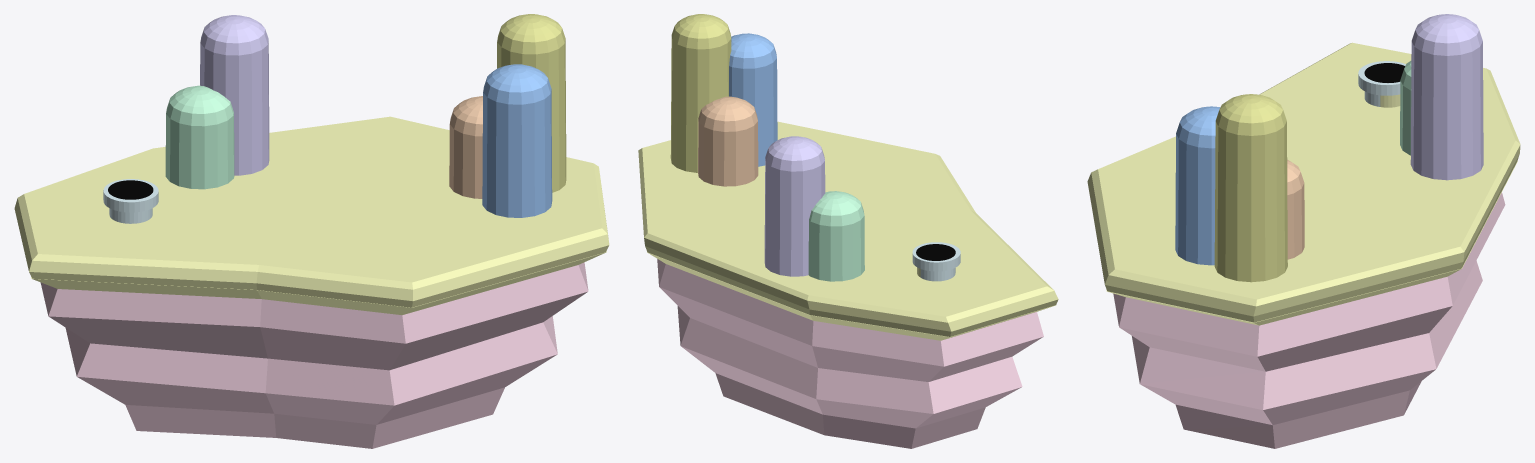
File: world3.gltf
3 views of the same model, side by side, from view 1: azimuth 30°, elevation 25°; view 2: azimuth 150°, elevation 25°; view 3: azimuth 270°, elevation 25° (orthographic). The views are drawn at different scales.
Visible parts, largest first — view 1: Cube.002, Sphere 4.001, Sphere.002, Sphere.001, Sphere 5.001, Sphere 2.002, Cylinder, Cylinder.001; view 2: Cube.002, Sphere.002, Sphere 5.001, Sphere 2.002, Sphere.001, Sphere 4.001, Cylinder, Cylinder.001; view 3: Cube.002, Sphere 5.001, Sphere.002, Sphere 4.001, Sphere 2.002, Sphere.001, Cylinder, Cylinder.001.
Part boxes in pixels (box(x1,y1,x2,y2)): Cube.002: box(14, 116, 609, 448); Sphere 4.001: box(482, 64, 552, 217); Sphere.002: box(200, 15, 269, 175); Sphere.001: box(165, 85, 234, 189); Sphere 5.001: box(497, 14, 566, 192); Sphere 2.002: box(449, 96, 482, 198); Cylinder: box(103, 179, 158, 212); Cylinder.001: box(108, 180, 153, 199); Cube.002: box(638, 121, 1058, 448); Sphere.002: box(764, 136, 825, 276); Sphere 5.001: box(670, 14, 731, 172); Sphere 2.002: box(698, 96, 758, 186); Sphere.001: box(808, 191, 864, 281); Sphere 4.001: box(729, 33, 777, 166); Cylinder: box(912, 242, 960, 271); Cylinder.001: box(916, 244, 955, 260); Cube.002: box(1087, 42, 1520, 448); Sphere 5.001: box(1214, 94, 1287, 282); Sphere.002: box(1410, 14, 1483, 180); Sphere 4.001: box(1175, 106, 1220, 265); Sphere 2.002: box(1287, 159, 1304, 259); Sphere.001: box(1400, 61, 1411, 155); Cylinder: box(1358, 61, 1405, 95); Cylinder.001: box(1364, 63, 1404, 82).
Size of the model in its own units: 13.73 by 8.85 by 9.48.
